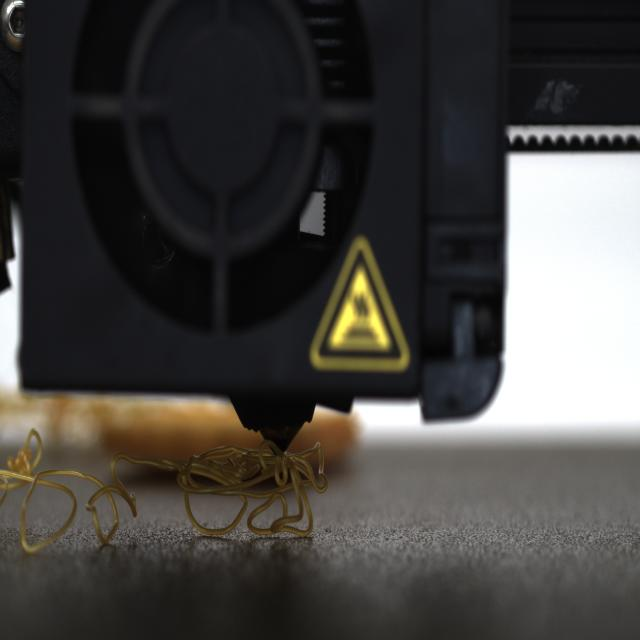Curling_Spagetti: (2, 440, 133, 555)
